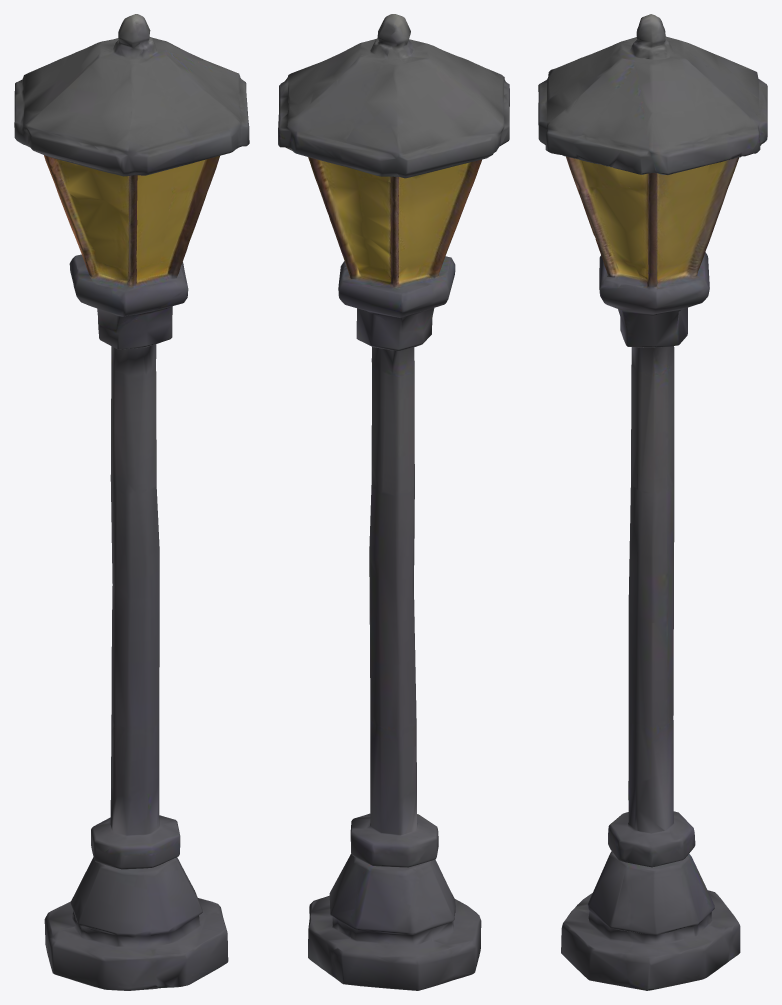
File: streetlamp-web.glb
The picture shows the model from 3 angles, left to right: view 1: azimuth 30°, elevation 25°; view 2: azimuth 150°, elevation 25°; view 3: azimuth 270°, elevation 25°; orthographic projection.
Parts seen in each view (by area): view 1: tripo_node_4a3b947e-85b3-44a1-a4d2-d080d7189873; view 2: tripo_node_4a3b947e-85b3-44a1-a4d2-d080d7189873; view 3: tripo_node_4a3b947e-85b3-44a1-a4d2-d080d7189873.
Boxes of the visible parts, <box> form: tripo_node_4a3b947e-85b3-44a1-a4d2-d080d7189873: <box>14,14,249,990</box>; tripo_node_4a3b947e-85b3-44a1-a4d2-d080d7189873: <box>278,14,509,990</box>; tripo_node_4a3b947e-85b3-44a1-a4d2-d080d7189873: <box>538,14,767,990</box>.
Bounding box in the file's own units: 0.2409 × 0.9998 × 0.222.
1 material, 1 textured.
